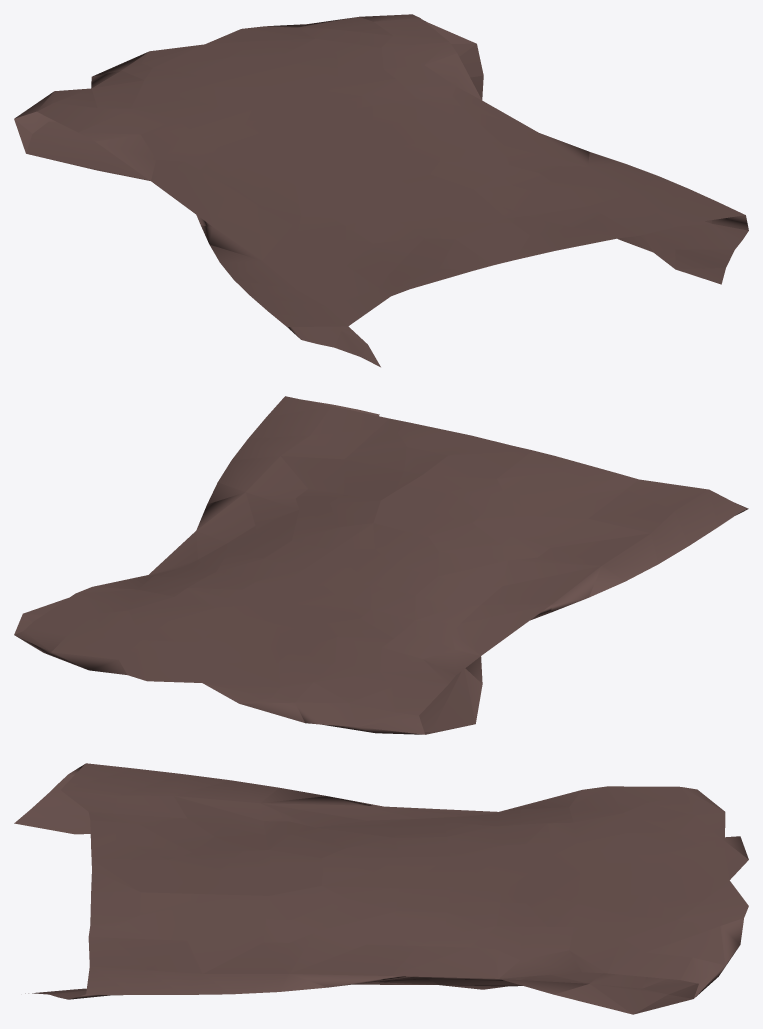
File: Leather Coat Damaged 1.fbx
3 renders of one model, top to bottom at view 1: azimuth 30°, elevation 25°; view 2: azimuth 150°, elevation 25°; view 3: azimuth 270°, elevation 25°, orthographic. The views are drawn at different scales.
Parts seen in each view (by area): view 1: Leather_Coat_Damaged_1; view 2: Leather_Coat_Damaged_1; view 3: Leather_Coat_Damaged_1.
Boxes of the visible parts, x1,y1,x2,y2 form: Leather_Coat_Damaged_1: (14, 14, 748, 367); Leather_Coat_Damaged_1: (14, 396, 748, 734); Leather_Coat_Damaged_1: (14, 763, 748, 1014).
Bounding box in the file's own units: 42.56 × 4.63 × 57.21.
1 material, 1 textured.
